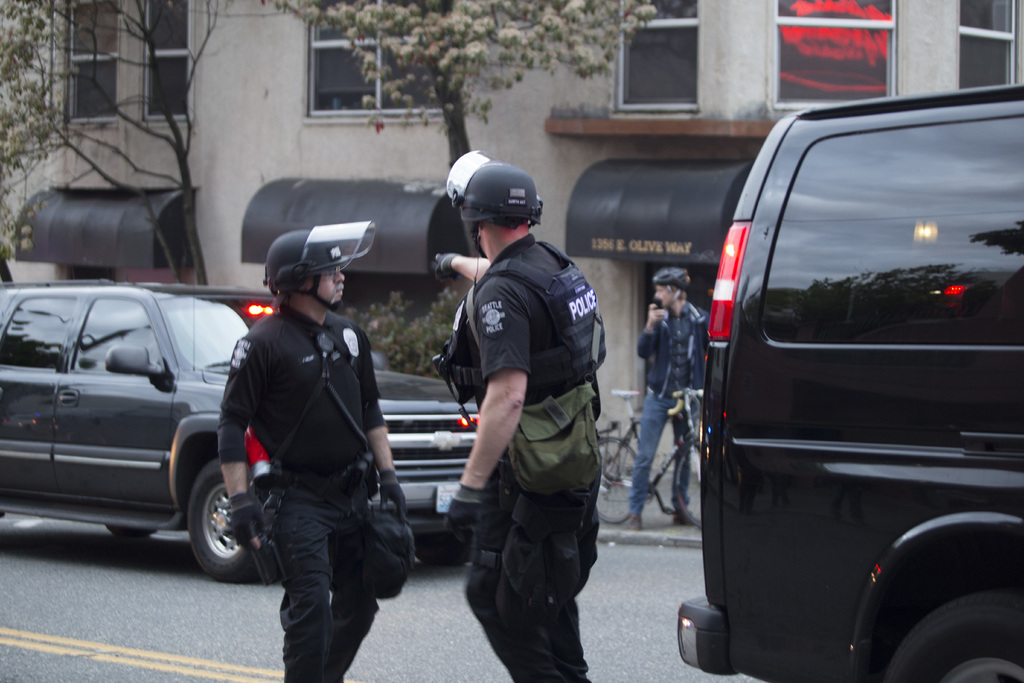Car: (670, 76, 1023, 682), (0, 276, 475, 584)
